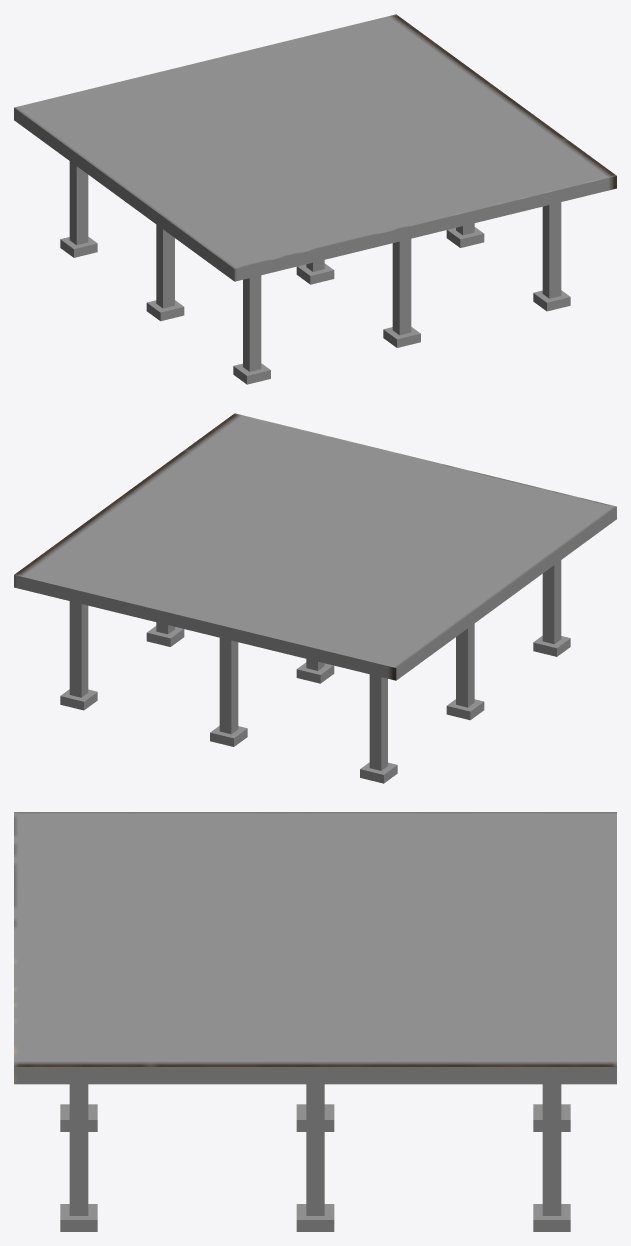
The model's file is Props_Scene.fbx.
3 renders of one model, top to bottom at view 1: azimuth 30°, elevation 25°; view 2: azimuth 150°, elevation 25°; view 3: azimuth 270°, elevation 25°, orthographic. The views are drawn at different scales.
Parts seen in each view (by area): view 1: scene; view 2: scene; view 3: scene.
Part boxes in pixels (x1,y1,x2,y2): scene: (14,14,616,384); scene: (14,413,616,783); scene: (14,812,616,1231).
Size of the model in its own units: 63.75 by 21.53 by 63.75.
